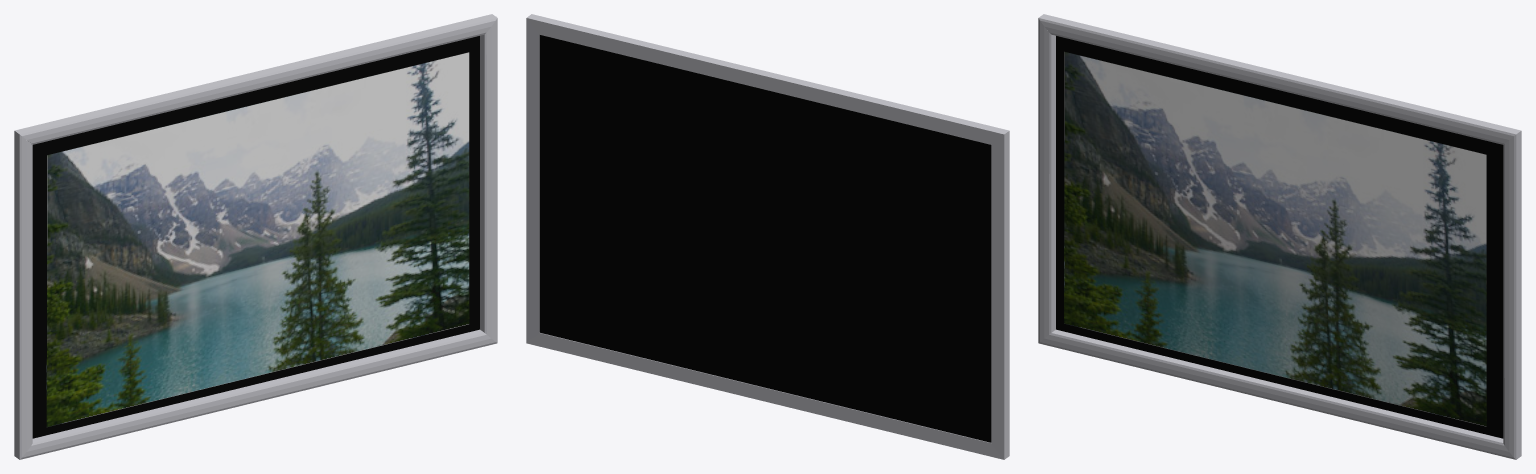
Rendered from sweethome3d-contributions-frame-lake-moraine.glb.
3 views of the same model, side by side, from view 1: azimuth 30°, elevation 25°; view 2: azimuth 150°, elevation 25°; view 3: azimuth 330°, elevation 25° (orthographic).
Visible parts, largest first — view 1: Photo_Cube_Material_LakeMoraine, MetalFrame_Cylinder_Aluminium.007, Frame_Black_Material.008; view 2: Frame_Black_Material.008, MetalFrame_Cylinder_Aluminium.007; view 3: Photo_Cube_Material_LakeMoraine, MetalFrame_Cylinder_Aluminium.007, Frame_Black_Material.008.
Part boxes in pixels (box(x1,y1,x2,y2)): Photo_Cube_Material_LakeMoraine: box(46, 52, 469, 427); MetalFrame_Cylinder_Aluminium.007: box(14, 14, 497, 459); Frame_Black_Material.008: box(32, 36, 479, 438); Frame_Black_Material.008: box(539, 35, 991, 442); MetalFrame_Cylinder_Aluminium.007: box(526, 14, 1009, 459); Photo_Cube_Material_LakeMoraine: box(1064, 51, 1486, 426); MetalFrame_Cylinder_Aluminium.007: box(1038, 14, 1521, 459); Frame_Black_Material.008: box(1056, 36, 1503, 438).
Size of the model in its own units: 73.53 by 47.86 by 1.6.
Materials: 3 (1 with a texture image).
